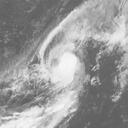cyclone: (36, 39, 79, 88)
